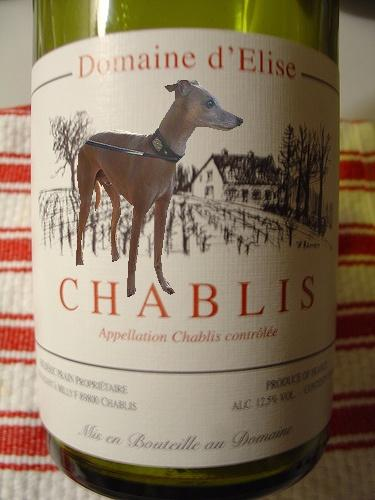tampered: (77, 81, 243, 297)
